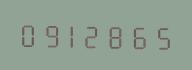eight: (105, 20, 126, 50)
five: (149, 20, 170, 51)
nine: (39, 19, 60, 49)
one: (61, 19, 82, 49)
six: (127, 20, 148, 50)
two: (83, 19, 104, 50)
zero: (17, 18, 38, 48)
